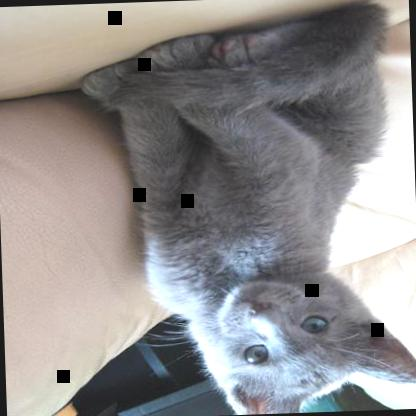cat: (81, 7, 415, 415)
